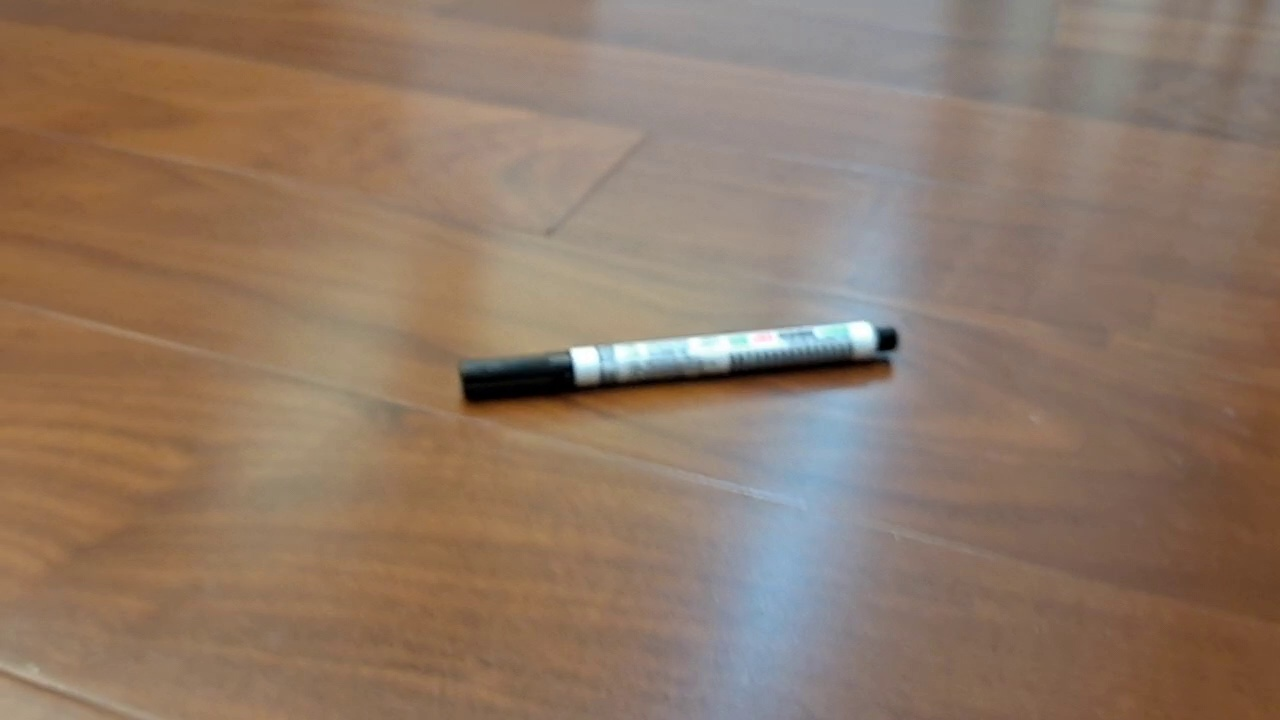pen: (459, 320, 899, 403)
